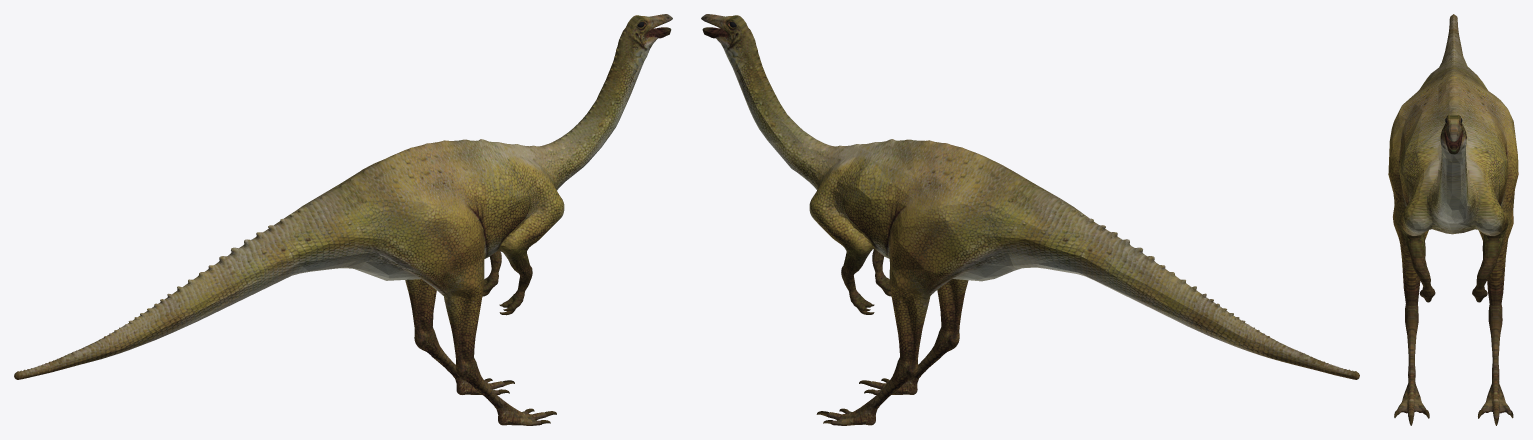
File: Dino.FBX
The picture shows the model from 3 angles, left to right: view 1: azimuth 30°, elevation 25°; view 2: azimuth 150°, elevation 25°; view 3: azimuth 270°, elevation 25°; orthographic projection.
Visible parts, largest first — view 1: Gallim; view 2: Gallim; view 3: Gallim.
Boxes of the visible parts, left/top/right/bottom form: Gallim: left=14, top=14, right=672, bottom=425; Gallim: left=701, top=14, right=1359, bottom=425; Gallim: left=1388, top=14, right=1518, bottom=425.
Size of the model in its own units: 10839 by 5622 by 1835.
